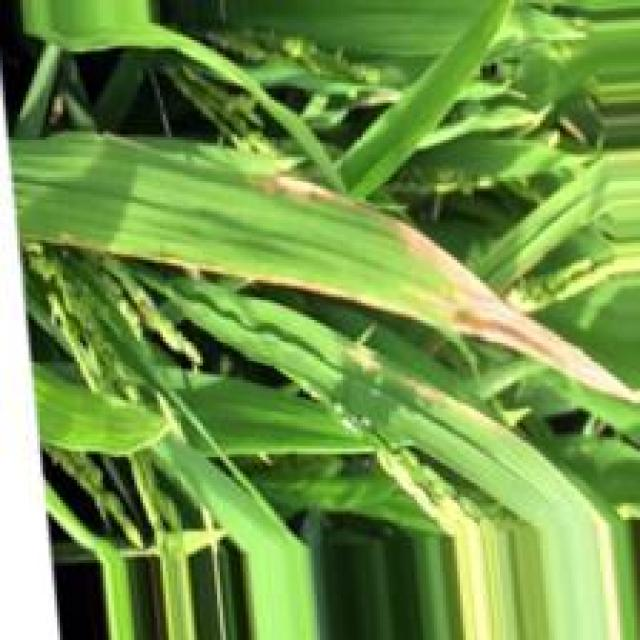Unhealthy: (397, 219, 640, 411), (265, 171, 339, 200), (343, 343, 383, 377), (406, 383, 454, 411), (467, 408, 516, 434)
